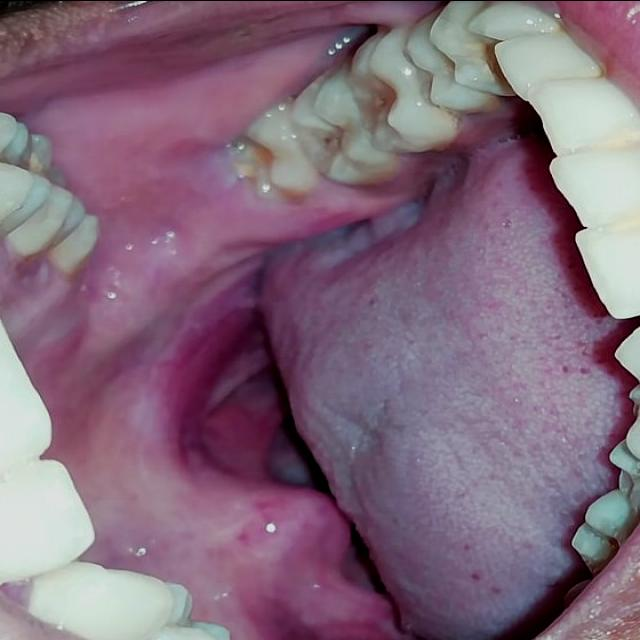No Cancer: (270, 145, 555, 593)
